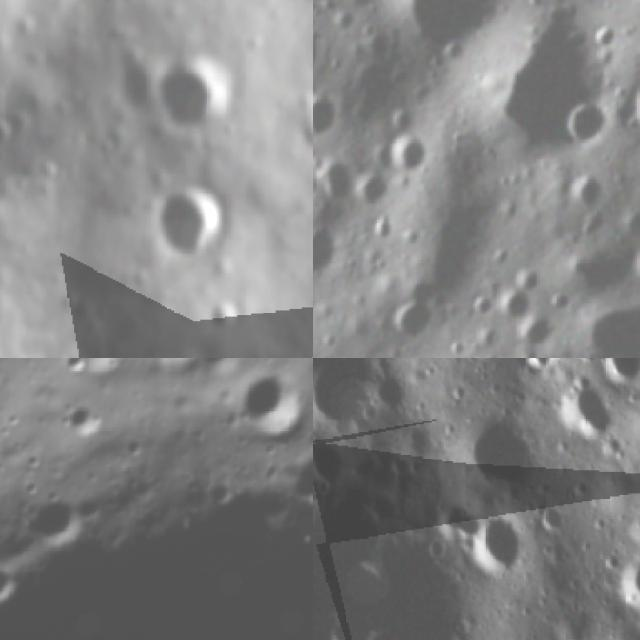crater: (453, 0, 640, 191), (358, 0, 545, 88), (148, 172, 236, 270), (564, 245, 640, 358), (152, 48, 246, 133), (219, 364, 308, 447), (371, 277, 448, 356), (10, 484, 92, 548), (553, 86, 625, 158), (470, 417, 536, 490), (104, 47, 164, 119), (376, 123, 440, 187), (313, 145, 370, 214), (472, 505, 524, 576), (313, 363, 378, 417), (346, 155, 404, 214), (613, 47, 640, 164), (313, 209, 352, 285), (313, 75, 352, 149), (562, 163, 614, 214), (58, 396, 107, 444), (568, 380, 608, 438), (203, 294, 254, 338), (586, 11, 633, 58), (506, 256, 553, 303), (490, 280, 537, 327), (313, 424, 342, 487), (379, 96, 420, 140), (0, 552, 29, 613), (288, 445, 313, 514), (462, 284, 503, 325), (133, 358, 208, 375), (543, 285, 578, 321), (604, 358, 640, 391), (36, 152, 68, 189), (624, 542, 640, 611), (0, 106, 21, 149), (625, 236, 640, 296), (73, 358, 124, 374), (516, 358, 557, 377), (469, 346, 524, 358)
